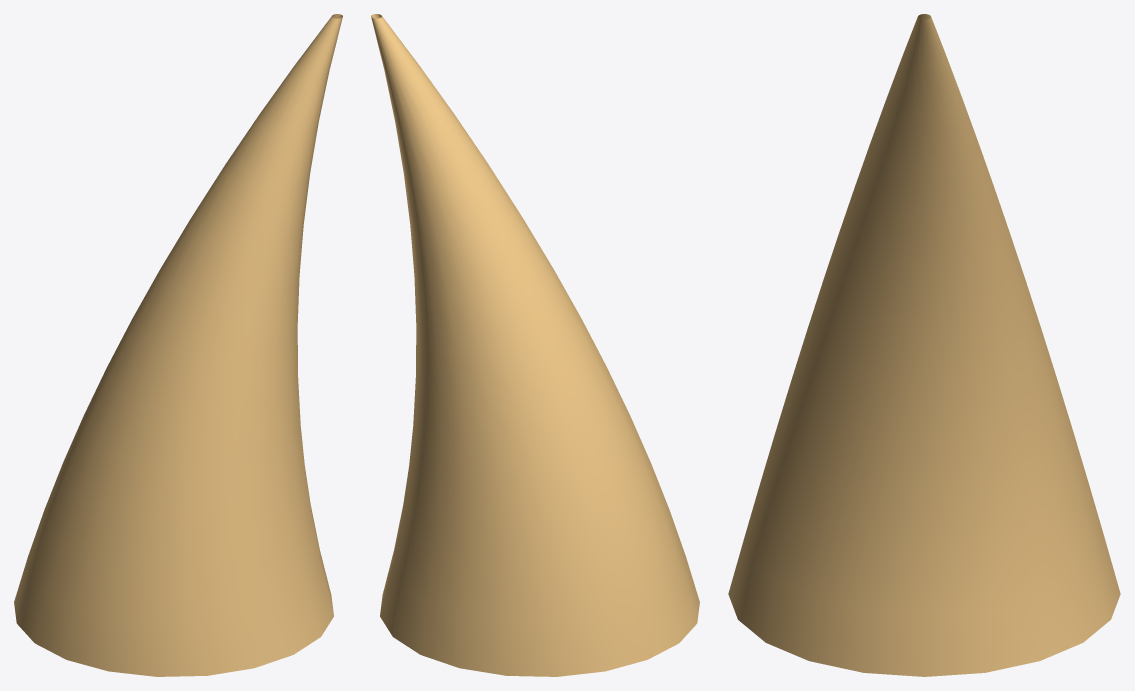
Rendered from fur-monster-horn.obj.
The picture shows the model from 3 angles, left to right: view 1: azimuth 30°, elevation 25°; view 2: azimuth 150°, elevation 25°; view 3: azimuth 270°, elevation 25°; orthographic projection. The views are drawn at different scales.
Parts seen in each view (by area): view 1: ivory; view 2: ivory; view 3: ivory.
Boxes of the visible parts, box(x1,y1,x2,y2) form: ivory: box(14, 14, 342, 676); ivory: box(371, 14, 699, 676); ivory: box(728, 14, 1120, 676).
Bounding box in the file's own units: 0.32 × 0.55 × 0.29.
